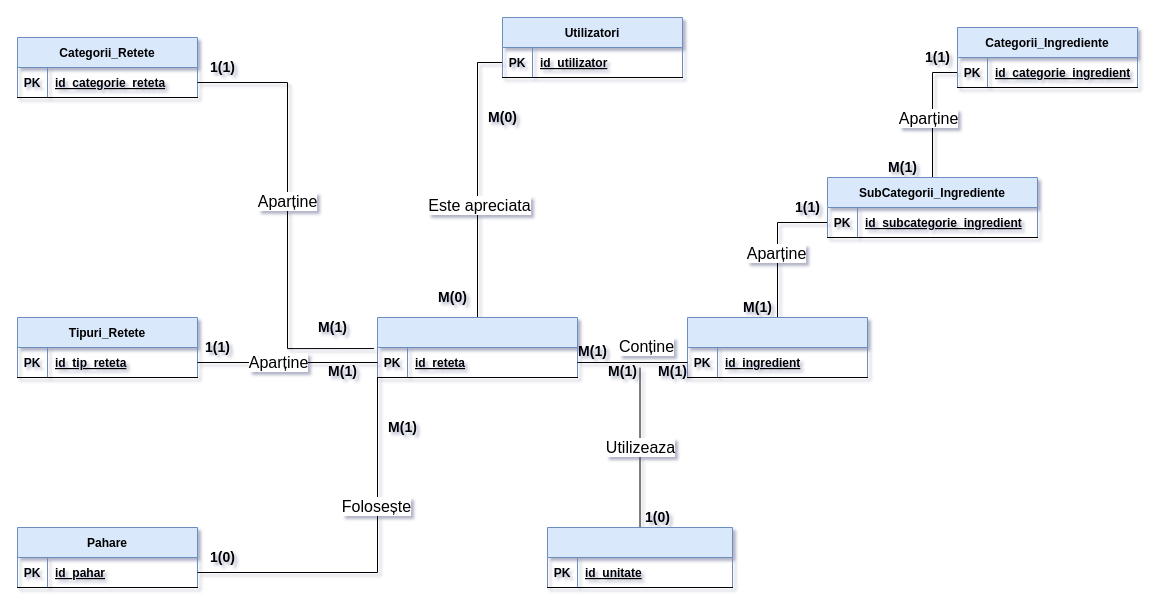
This 1161x611 diagram has some shape labels left out. The shapes that lost their labels are listed below. From the top down, each one's box as (x1, y1, x2, y2) in pixels, then its label:
(376, 316, 578, 378): Retete
(686, 316, 868, 378): Ingrediente
(546, 526, 732, 588): Unitati
